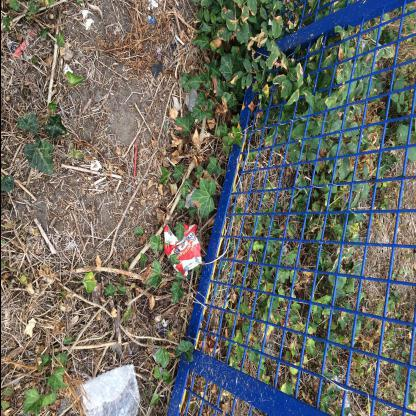plastik: (79, 365, 141, 416), (164, 225, 202, 278)
